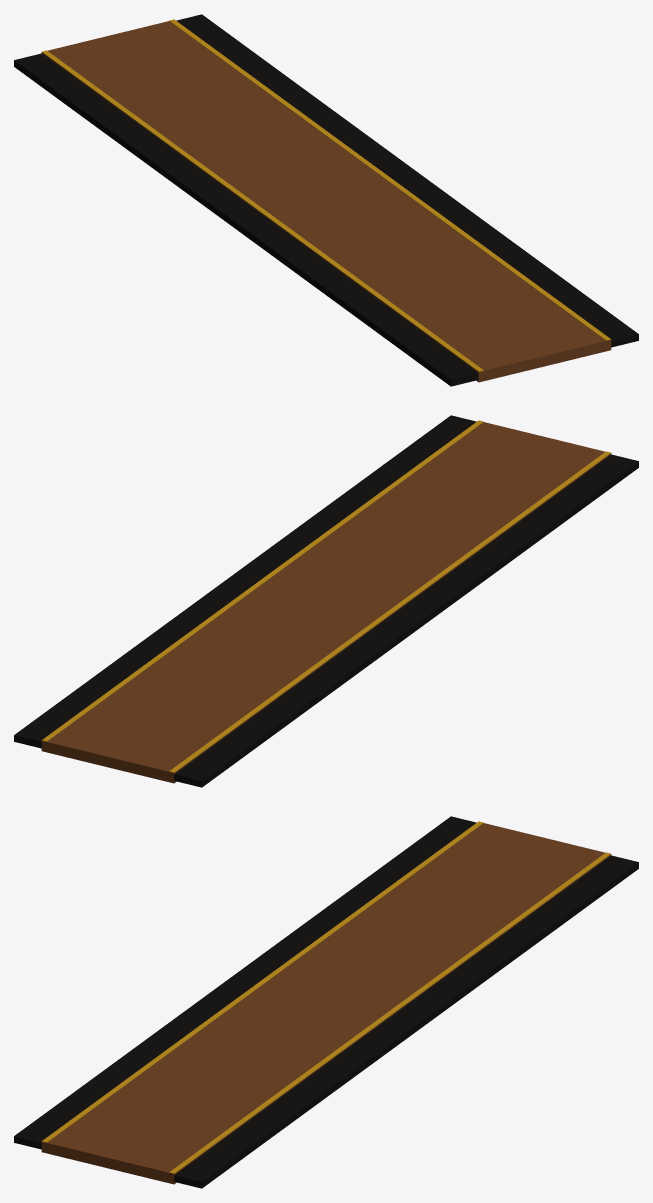
Rendered from bowling_lane.obj.
3 views of the same model, one above another, from view 1: azimuth 30°, elevation 25°; view 2: azimuth 150°, elevation 25°; view 3: azimuth 330°, elevation 25° (orthographic).
Parts seen in each view (by area): view 1: Lane_Board, Gutter_Left, Gutter_Right, Trim_Left, Trim_Right; view 2: Lane_Board, Gutter_Left, Gutter_Right, Trim_Left, Trim_Right; view 3: Lane_Board, Gutter_Right, Gutter_Left, Trim_Right, Trim_Left.
Part boxes in pixels (x1,y1,x2,y2): Lane_Board: (41, 21, 611, 382); Gutter_Left: (14, 53, 478, 386); Gutter_Right: (176, 14, 638, 347); Trim_Left: (42, 50, 483, 371); Trim_Right: (169, 19, 611, 340); Lane_Board: (41, 422, 611, 783); Gutter_Left: (174, 454, 638, 787); Gutter_Right: (14, 415, 476, 748); Trim_Left: (169, 451, 610, 772); Trim_Right: (41, 420, 483, 741); Lane_Board: (41, 823, 611, 1184); Gutter_Right: (174, 855, 638, 1188); Gutter_Left: (14, 816, 476, 1149); Trim_Right: (169, 852, 610, 1173); Trim_Left: (41, 821, 483, 1142).
Bounding box in the file's own units: 1.49 × 0.0835 × 6.
